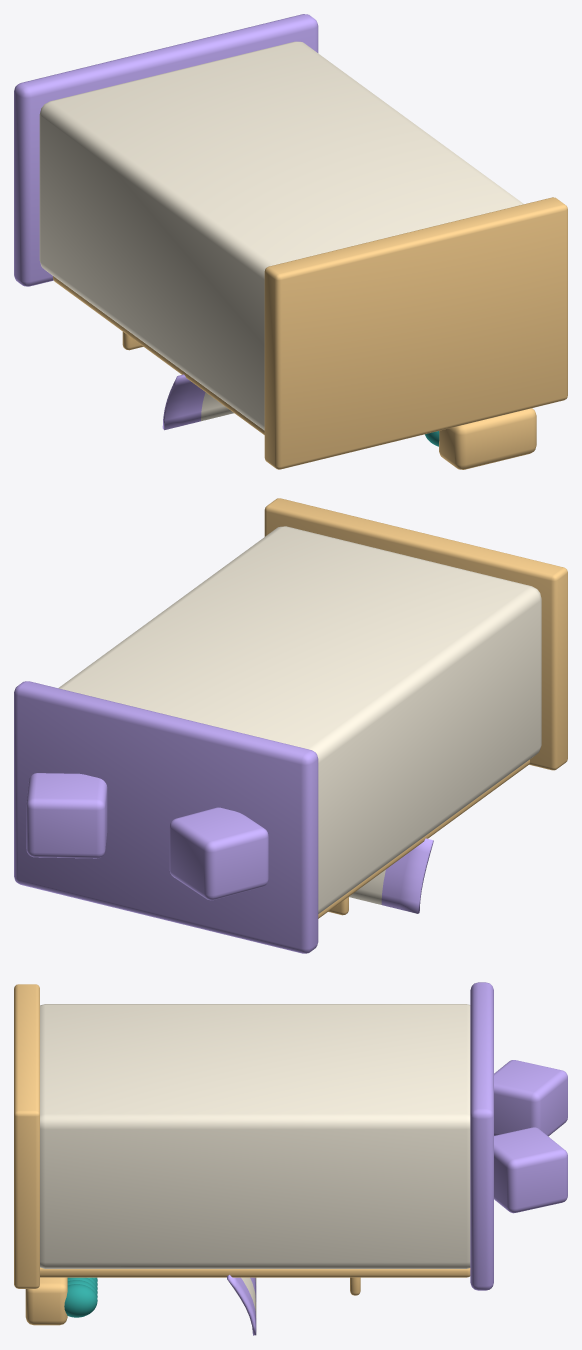
File: RunnerTownhouse2.fbx
The picture shows the model from 3 angles, top to bottom: view 1: azimuth 30°, elevation 25°; view 2: azimuth 150°, elevation 25°; view 3: azimuth 270°, elevation 25°; orthographic projection. The views are drawn at different scales.
Visible parts, largest first — view 1: RunnerTownhouse2; view 2: RunnerTownhouse2; view 3: RunnerTownhouse2.
Part boxes in pixels (x1,y1,x2,y2): RunnerTownhouse2: [14, 14, 567, 469]; RunnerTownhouse2: [14, 498, 567, 953]; RunnerTownhouse2: [14, 982, 567, 1335].
Bounding box in the file's own units: 2.39 × 1.97 × 4.24.
